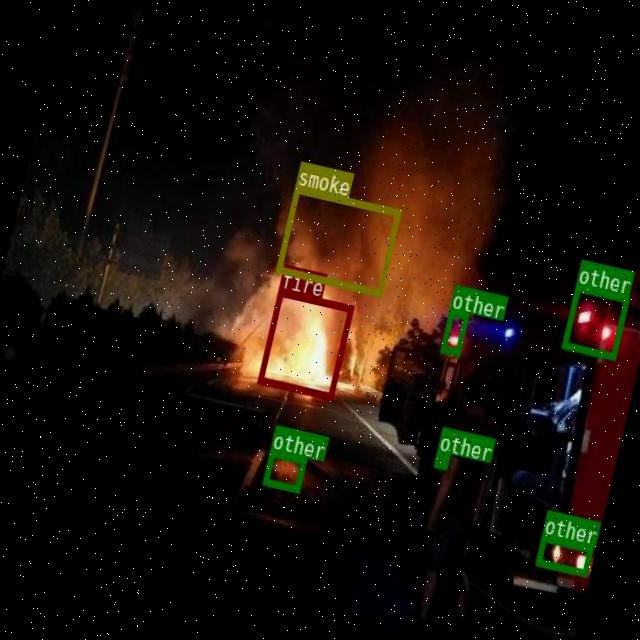fire: (256, 287, 353, 399)
smoke: (275, 184, 400, 294)
